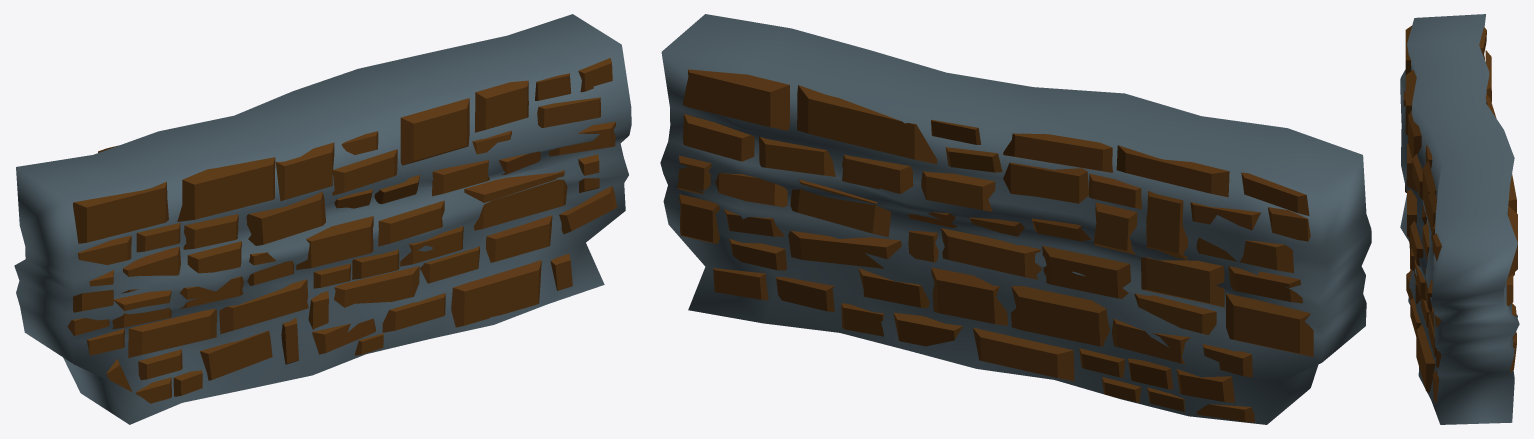
File: Ruins_Ground_5.FBX
3 renders of one model, left to right at view 1: azimuth 30°, elevation 25°; view 2: azimuth 150°, elevation 25°; view 3: azimuth 270°, elevation 25°, orthographic. The views are drawn at different scales.
Parts seen in each view (by area): view 1: Box001, Box002; view 2: Box001, Box003; view 3: Box001, Box002, Box003.
Boxes of the visible parts, x1,y1,x2,y2 form: Box001: (14,14,631,424); Box002: (67,58,616,403); Box001: (660,14,1371,424); Box003: (677,69,1313,422); Box001: (1400,14,1519,424); Box002: (1403,26,1441,403); Box003: (1479,27,1517,372).
Bounding box in the file's own units: 121 × 46.65 × 26.46.
